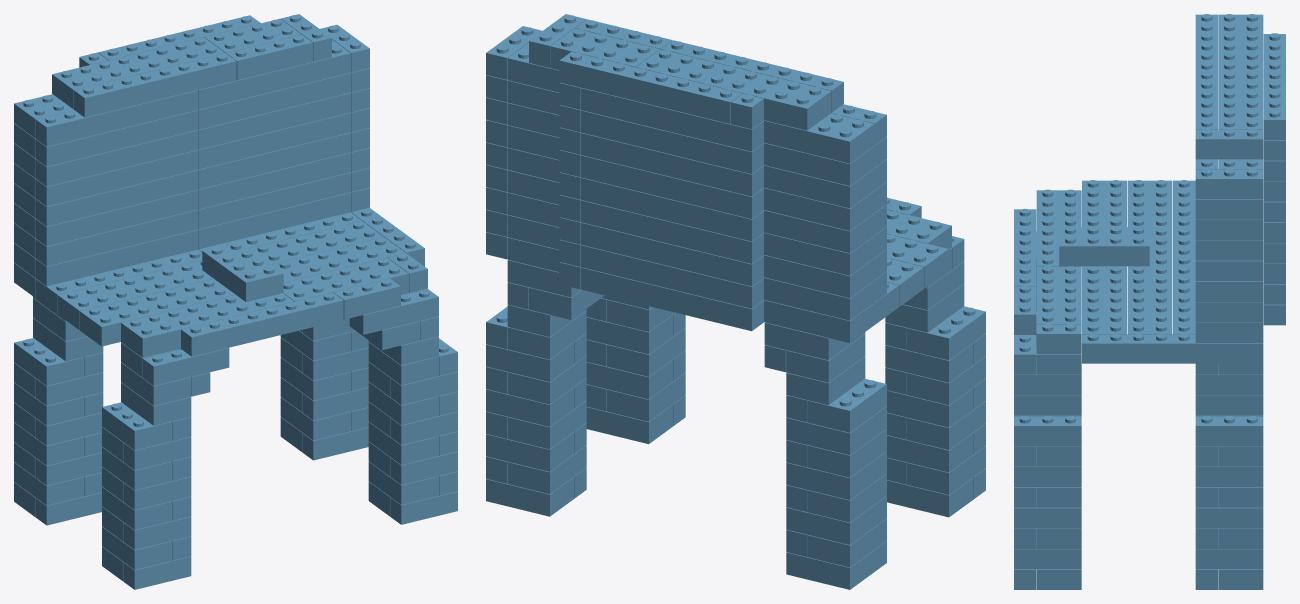
File: 041_bench_L1.glb
3 renders of one model, left to right at view 1: azimuth 30°, elevation 25°; view 2: azimuth 150°, elevation 25°; view 3: azimuth 270°, elevation 25°, orthographic. The views are drawn at different scales.
Bounding box in the file's own units: 16.98 × 21.13 × 11.98.
